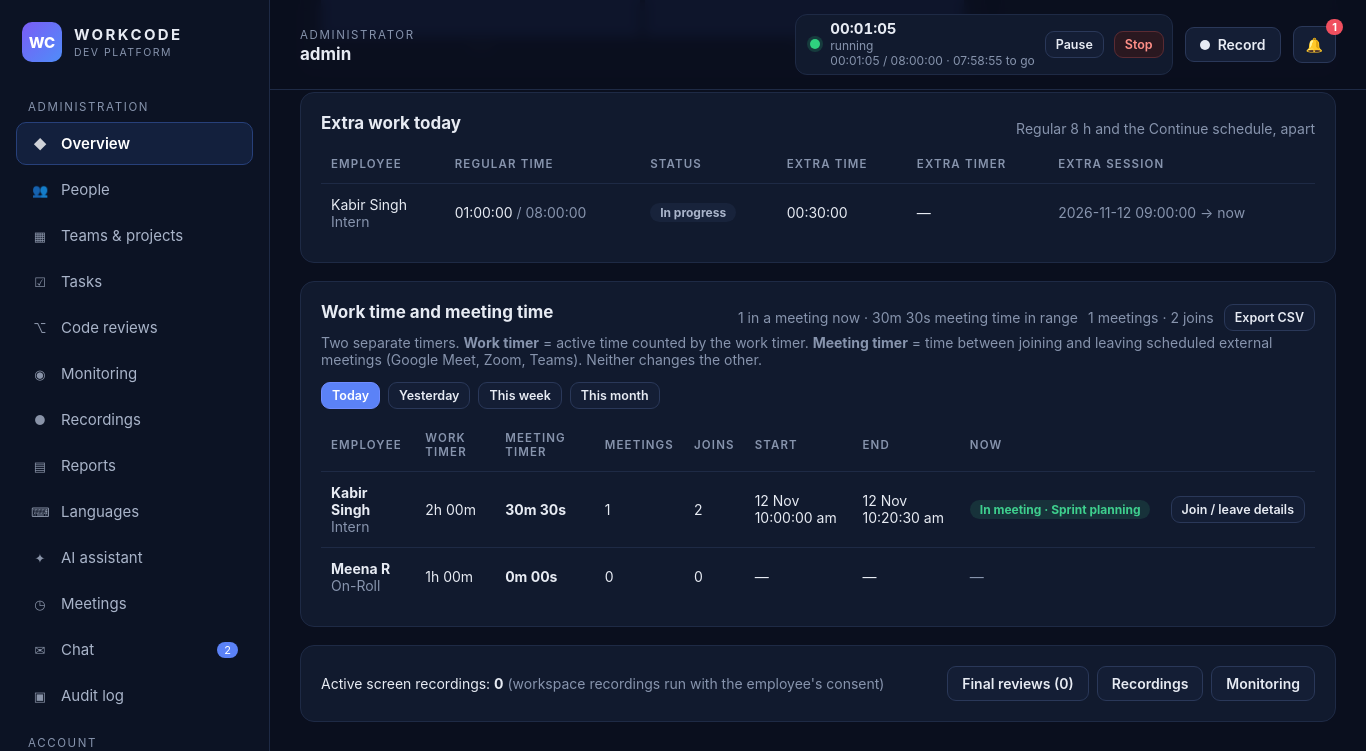
Test case: communication, recordings and reports pages › admin dashboard: work time and meeting time are two columns, with join / leave details and the total
(page scrolled)
Expected: the text with test id "meeting-counts" reads "1 meetings · 2 joins", [1088,309,1214,326]
Expected: the text "1 in a meeting now · 30m 30s meeting time in range" is shown, [738,309,1078,326]
What coordinates should you click on to do the following:
click the button "Join / leave details"
I would click on:
 (1238, 509)
Its box is [1170,496,1305,522].
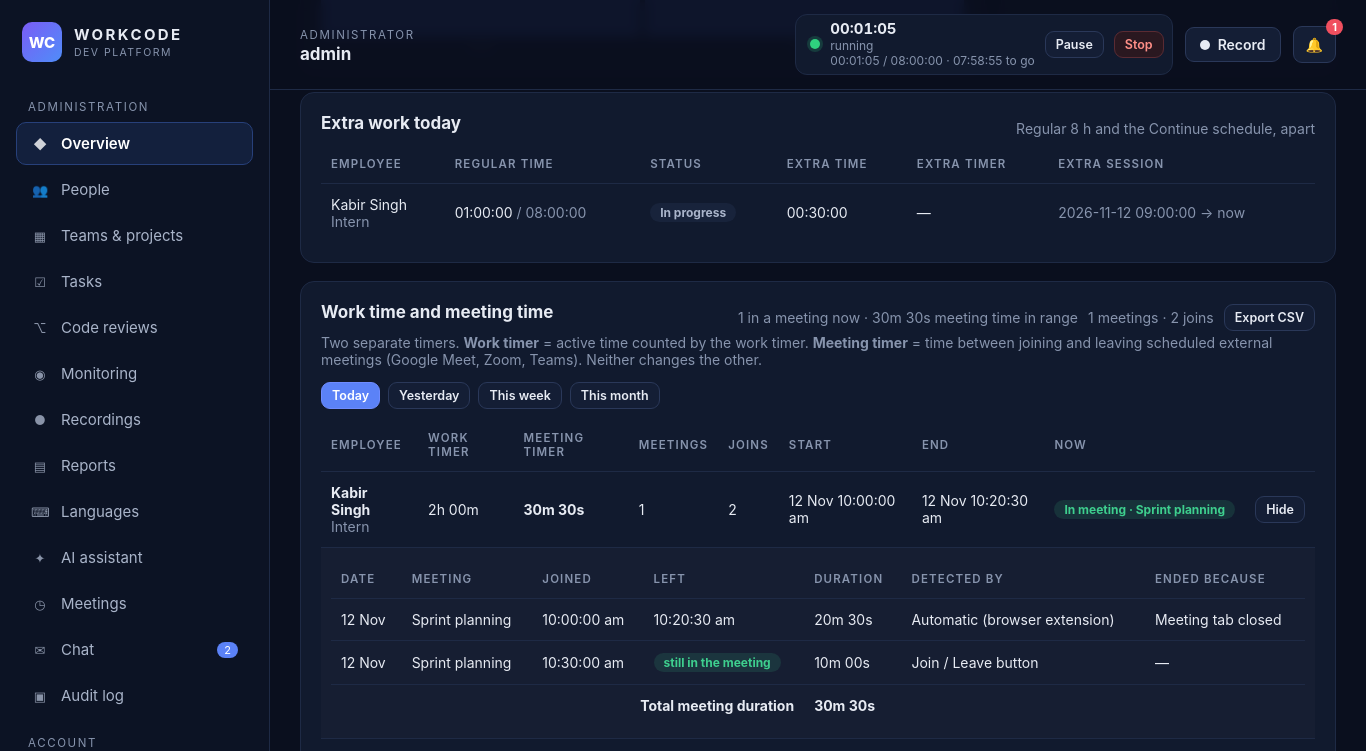
Result: the text "20m 30s" is shown at [804,598,901,640]
Result: the text "Meeting tab closed" is shown at [1145,598,1305,640]
Result: the text "Automatic (browser extension)" is shown at [902,598,1145,640]
